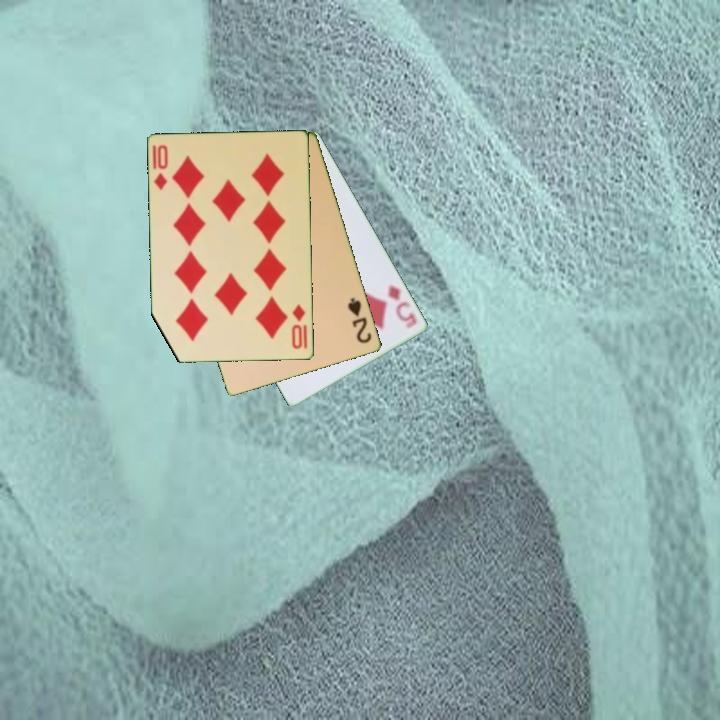10d: (149, 141, 171, 193), (288, 301, 308, 352)
2s: (344, 294, 375, 346)
5d: (385, 281, 420, 332)
